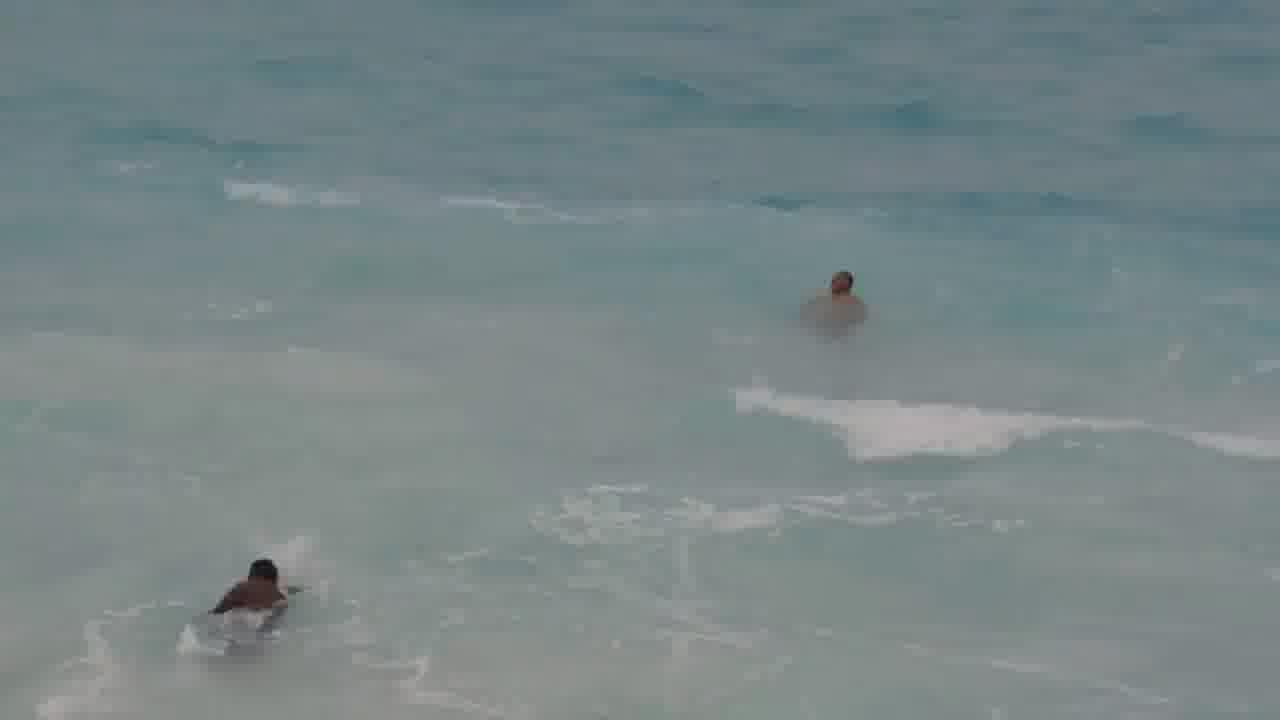swimmer: (221, 547, 301, 623), (812, 261, 865, 328)
